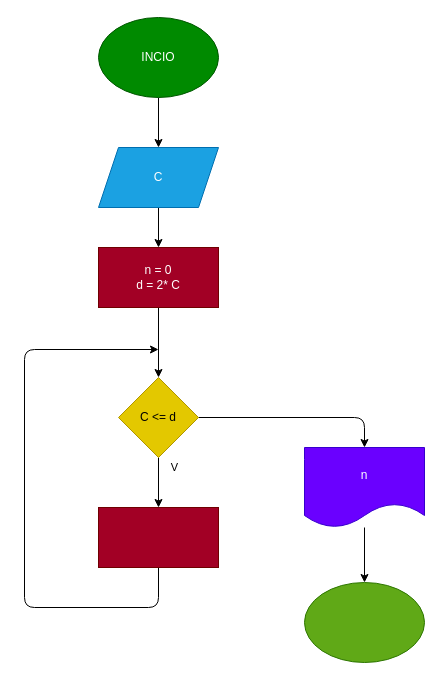
The diagram is 442 pixels wide and 680 high, and some of its shapes have lost their labels. The centre of each missing label's shape, as x and y in pixels:
C = 1.05 + C n = n +1: point (158, 537)
FIN: point (364, 622)
